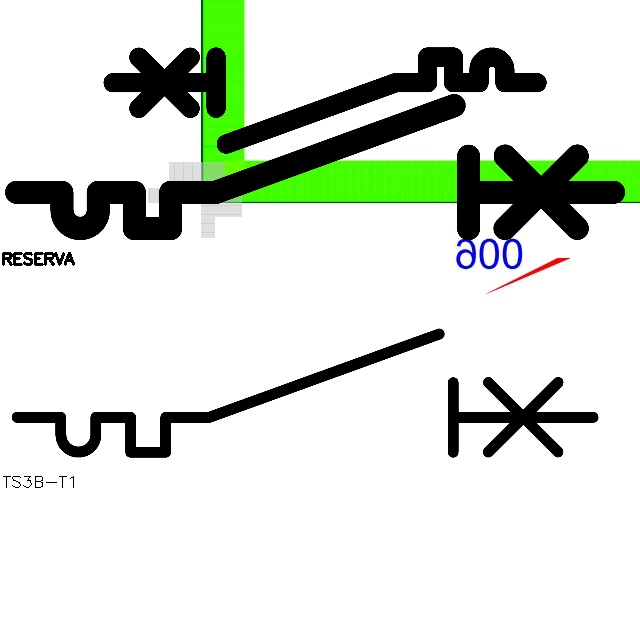interruptor_termomagnetico: (1, 90, 628, 244), (2, 319, 607, 467), (102, 46, 548, 155)
